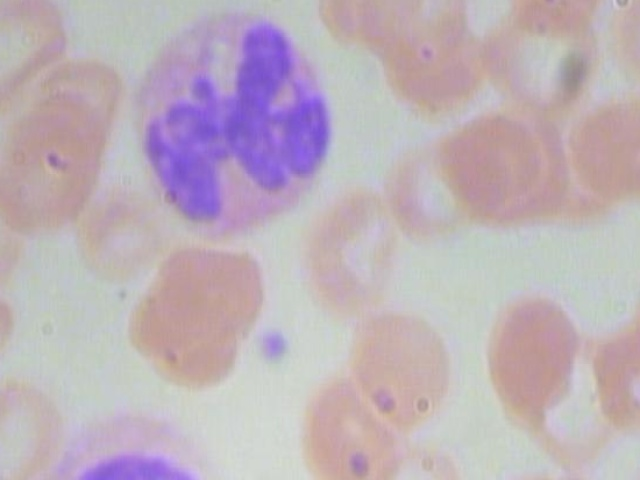Platelets: (250, 326, 290, 367)
WBC: (117, 0, 350, 244), (8, 406, 251, 480)
